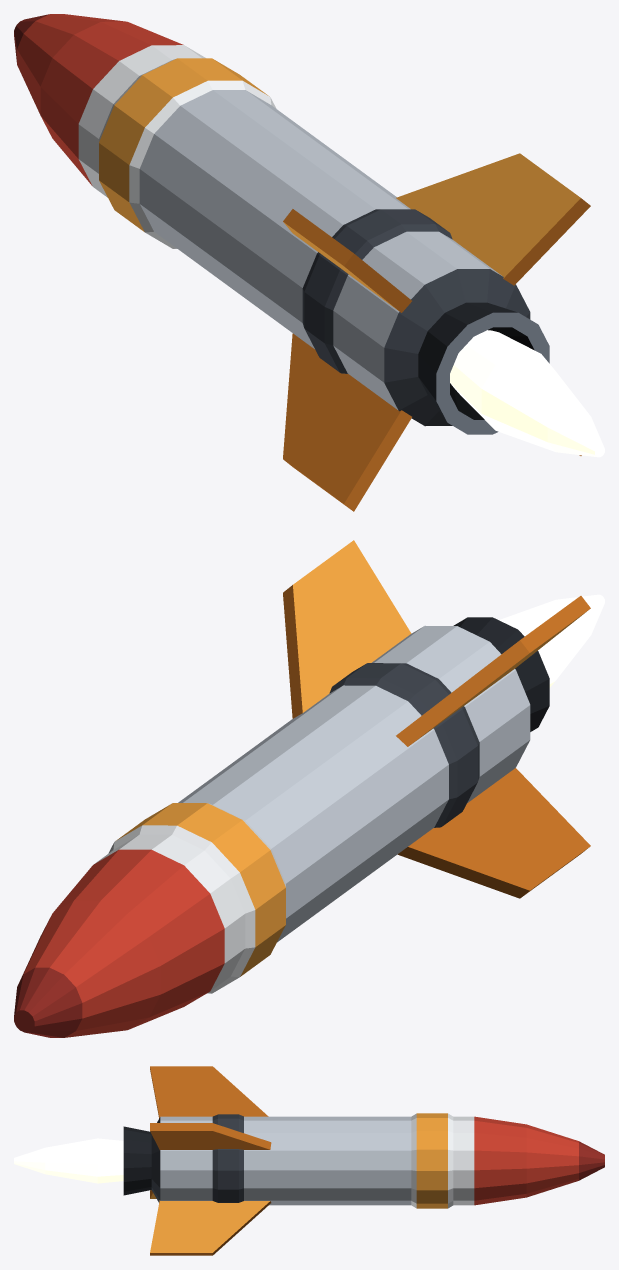
Rendered from rocket.fbx.
3 renders of one model, top to bottom at view 1: azimuth 30°, elevation 25°; view 2: azimuth 150°, elevation 25°; view 3: azimuth 270°, elevation 25°, orthographic. The views are drawn at different scales.
Visible parts, largest first — view 1: Body, Fins, Flame, Nozzle; view 2: Body, Fins, Flame, Nozzle; view 3: Body, Fins, Flame, Nozzle.
Boxes of the visible parts, <box> form: Body: <box>14,14,530,426</box>; Fins: <box>283,153,590,511</box>; Flame: <box>450,330,604,457</box>; Nozzle: <box>418,302,549,434</box>; Body: <box>14,625,530,1037</box>; Fins: <box>283,540,590,898</box>; Flame: <box>499,594,604,687</box>; Nozzle: <box>453,617,549,731</box>; Body: <box>151,1113,604,1208</box>; Fins: <box>150,1066,271,1255</box>; Flame: <box>14,1138,123,1183</box>; Nozzle: <box>123,1126,151,1195</box>.
Bounding box in the file's own units: 0.28 × 0.28 × 1.13.
2 materials, 1 textured.
